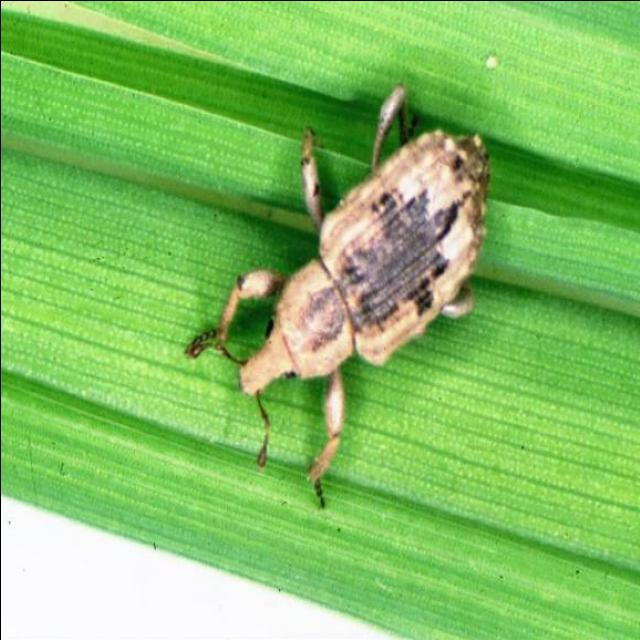ricebug: (185, 85, 489, 509)
